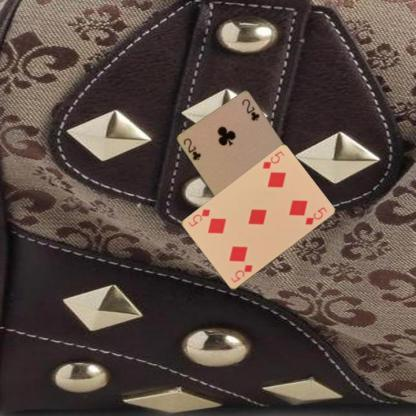2c: (180, 136, 202, 162)
5d: (260, 148, 286, 171), (228, 262, 254, 284)
